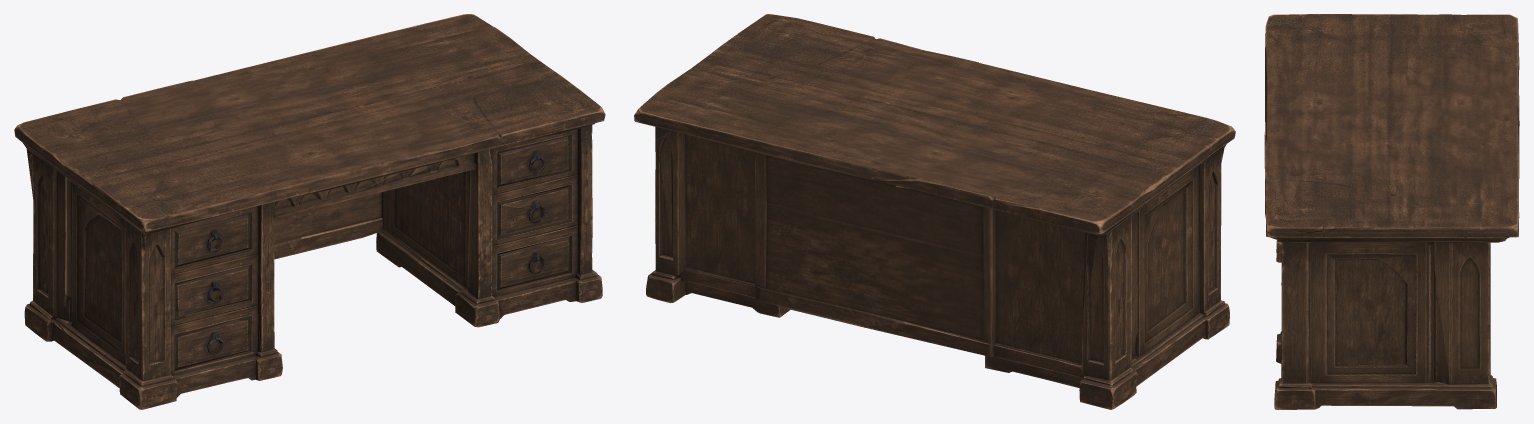
File: professor_desk.glb
3 views of the same model, side by side, from view 1: azimuth 30°, elevation 25°; view 2: azimuth 150°, elevation 25°; view 3: azimuth 270°, elevation 25° (orthographic). The views are drawn at different scales.
Parts seen in each view (by area): view 1: output_unwrapped; view 2: output_unwrapped; view 3: output_unwrapped.
Boxes of the visible parts, left/top/right/bottom form: output_unwrapped: left=14, top=14, right=605, bottom=409; output_unwrapped: left=634, top=14, right=1235, bottom=409; output_unwrapped: left=1264, top=14, right=1519, bottom=409.
Size of the model in its own units: 1.9 by 0.7576 by 0.956.
1 material, 1 textured.
